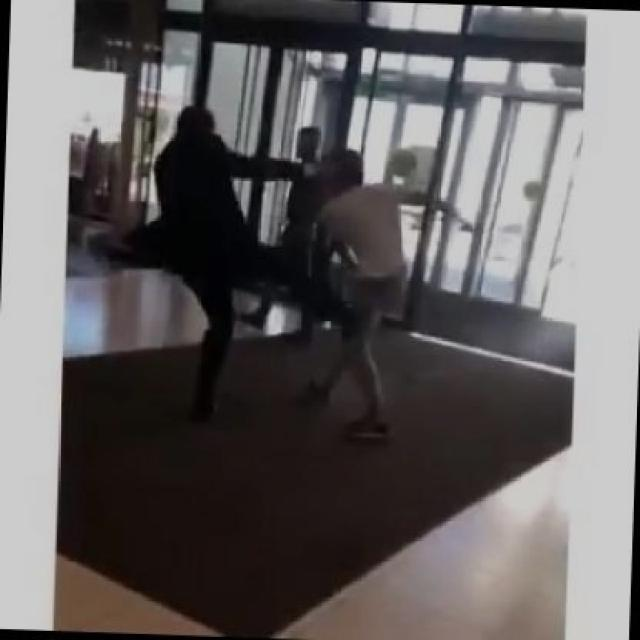fight: (123, 74, 491, 454)
non-fight: (229, 117, 337, 345)
